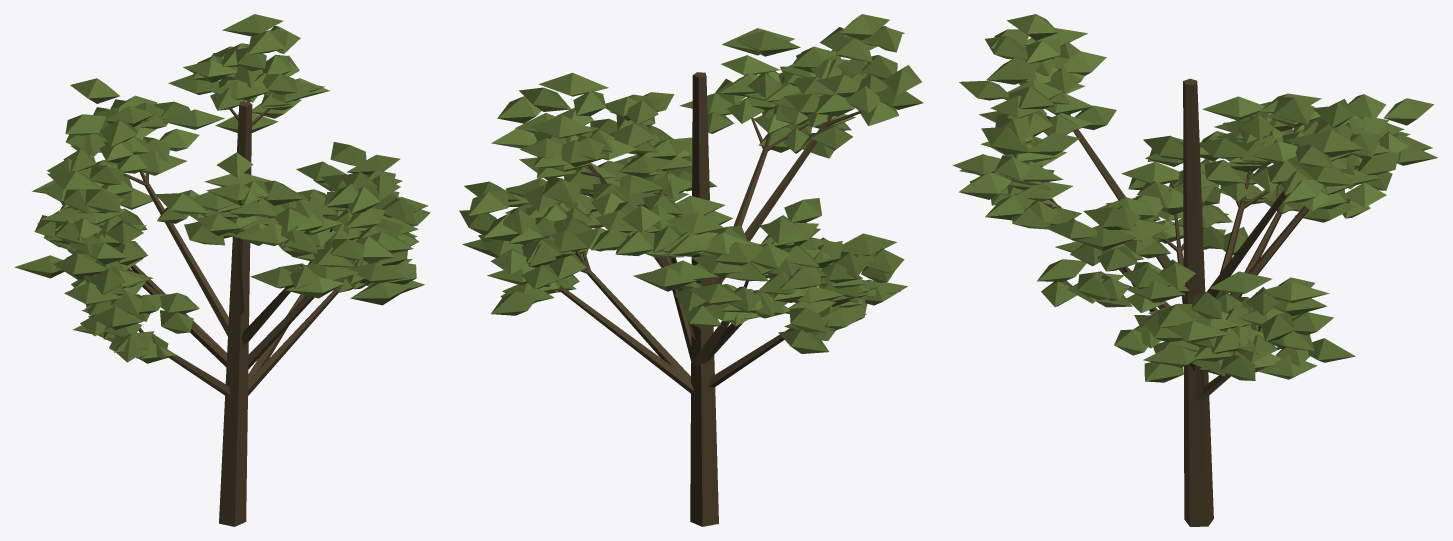
The model's file is tree-close-1.glb.
3 renders of one model, left to right at view 1: azimuth 30°, elevation 25°; view 2: azimuth 150°, elevation 25°; view 3: azimuth 270°, elevation 25°, orthographic. The views are drawn at different scales.
Parts seen in each view (by area): view 1: Branched crown.003; view 2: Branched crown.003; view 3: Branched crown.003.
Boxes of the visible parts, x1=… form: Branched crown.003: x1=14, y1=14, x2=430, y2=526; Branched crown.003: x1=459, y1=14, x2=923, y2=526; Branched crown.003: x1=953, y1=14, x2=1438, y2=526.
Size of the model in its own units: 1.04 by 1.17 by 1.09.
